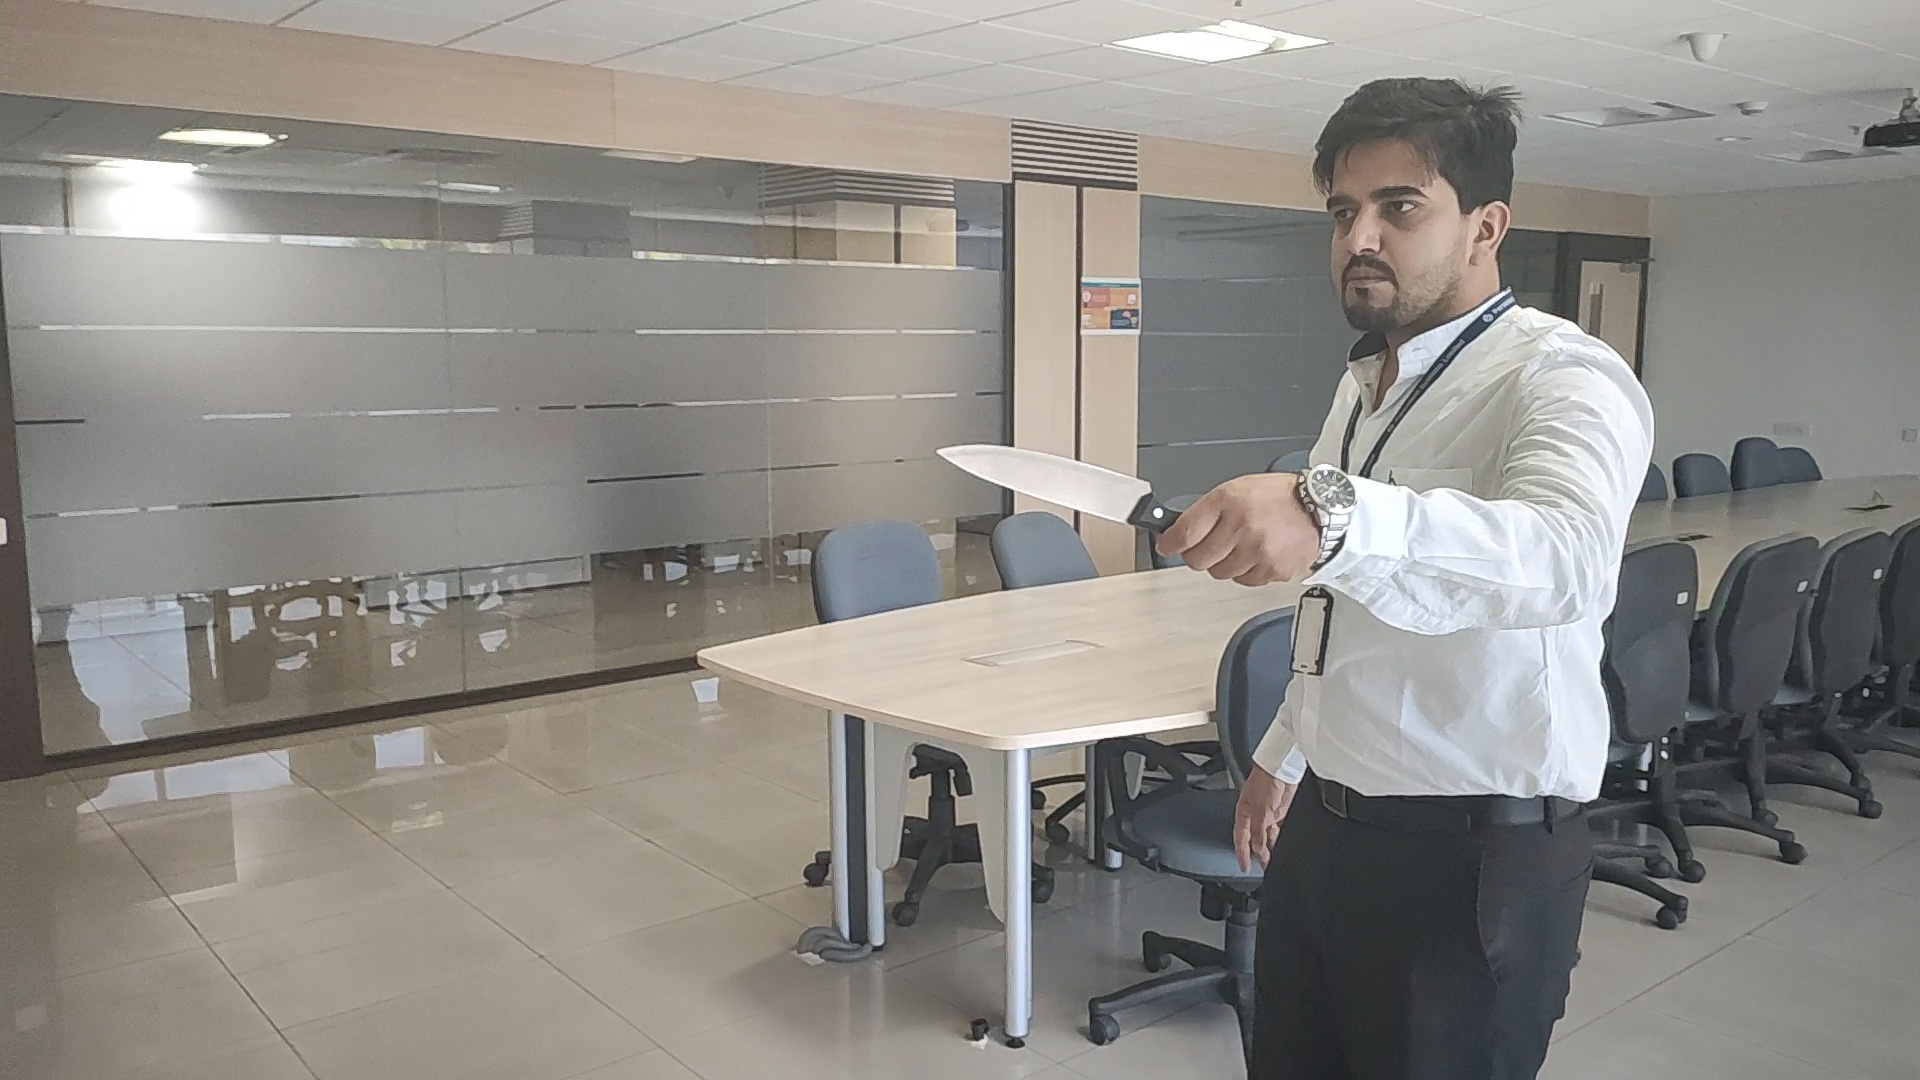knife: (936, 442, 1179, 530)
